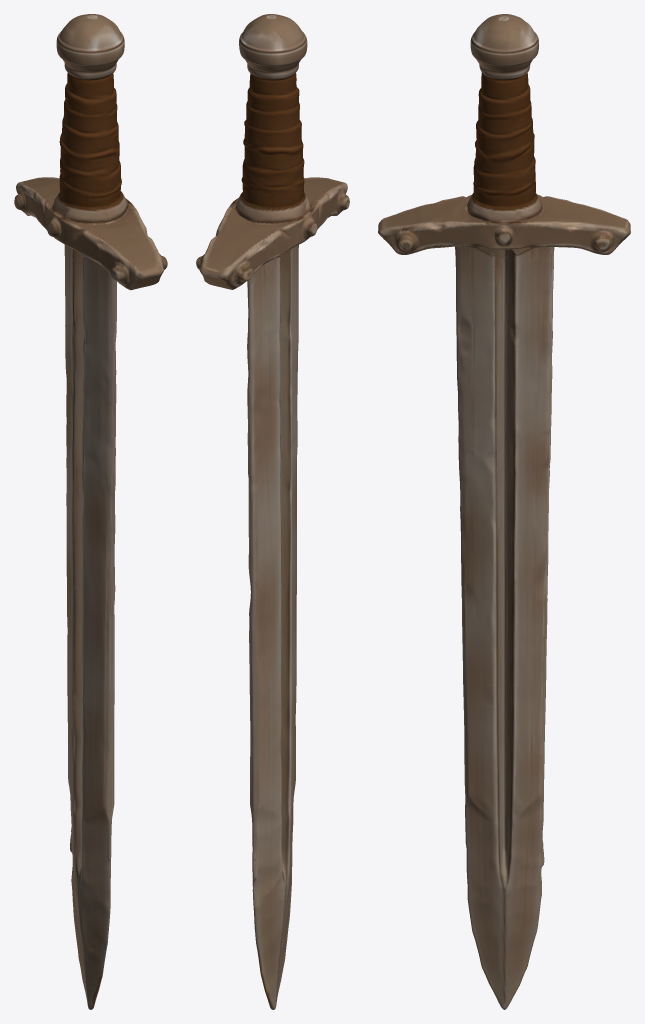
Rendered from tripo_convert_a89e8a0c-d1ed-4d1a-95eb-520df5473977.fbx.
The picture shows the model from 3 angles, left to right: view 1: azimuth 30°, elevation 25°; view 2: azimuth 150°, elevation 25°; view 3: azimuth 270°, elevation 25°; orthographic projection.
Parts seen in each view (by area): view 1: tripo_node_a89e8a0c; view 2: tripo_node_a89e8a0c; view 3: tripo_node_a89e8a0c.
Part boxes in pixels (<box>): tripo_node_a89e8a0c: <box>14,14,167,1009</box>; tripo_node_a89e8a0c: <box>196,14,349,1009</box>; tripo_node_a89e8a0c: <box>378,14,630,1009</box>.
Size of the model in its own units: 0.0874 by 1 by 0.231.
1 material, 1 textured.
